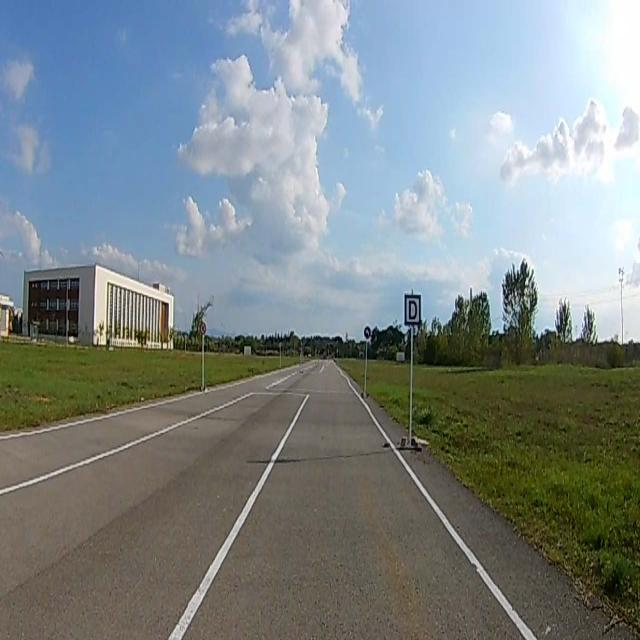durak: (403, 293, 421, 327)
